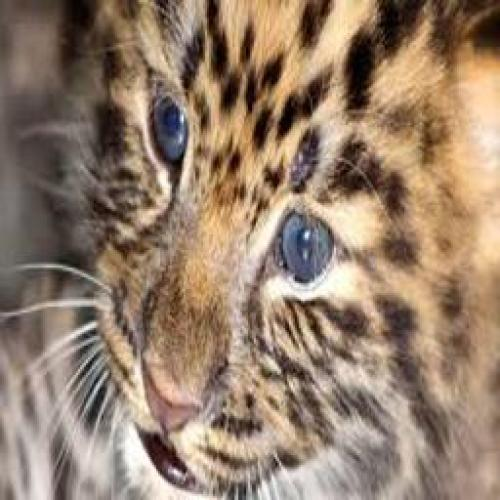amur_leopard-endangered: (71, 0, 490, 490)
